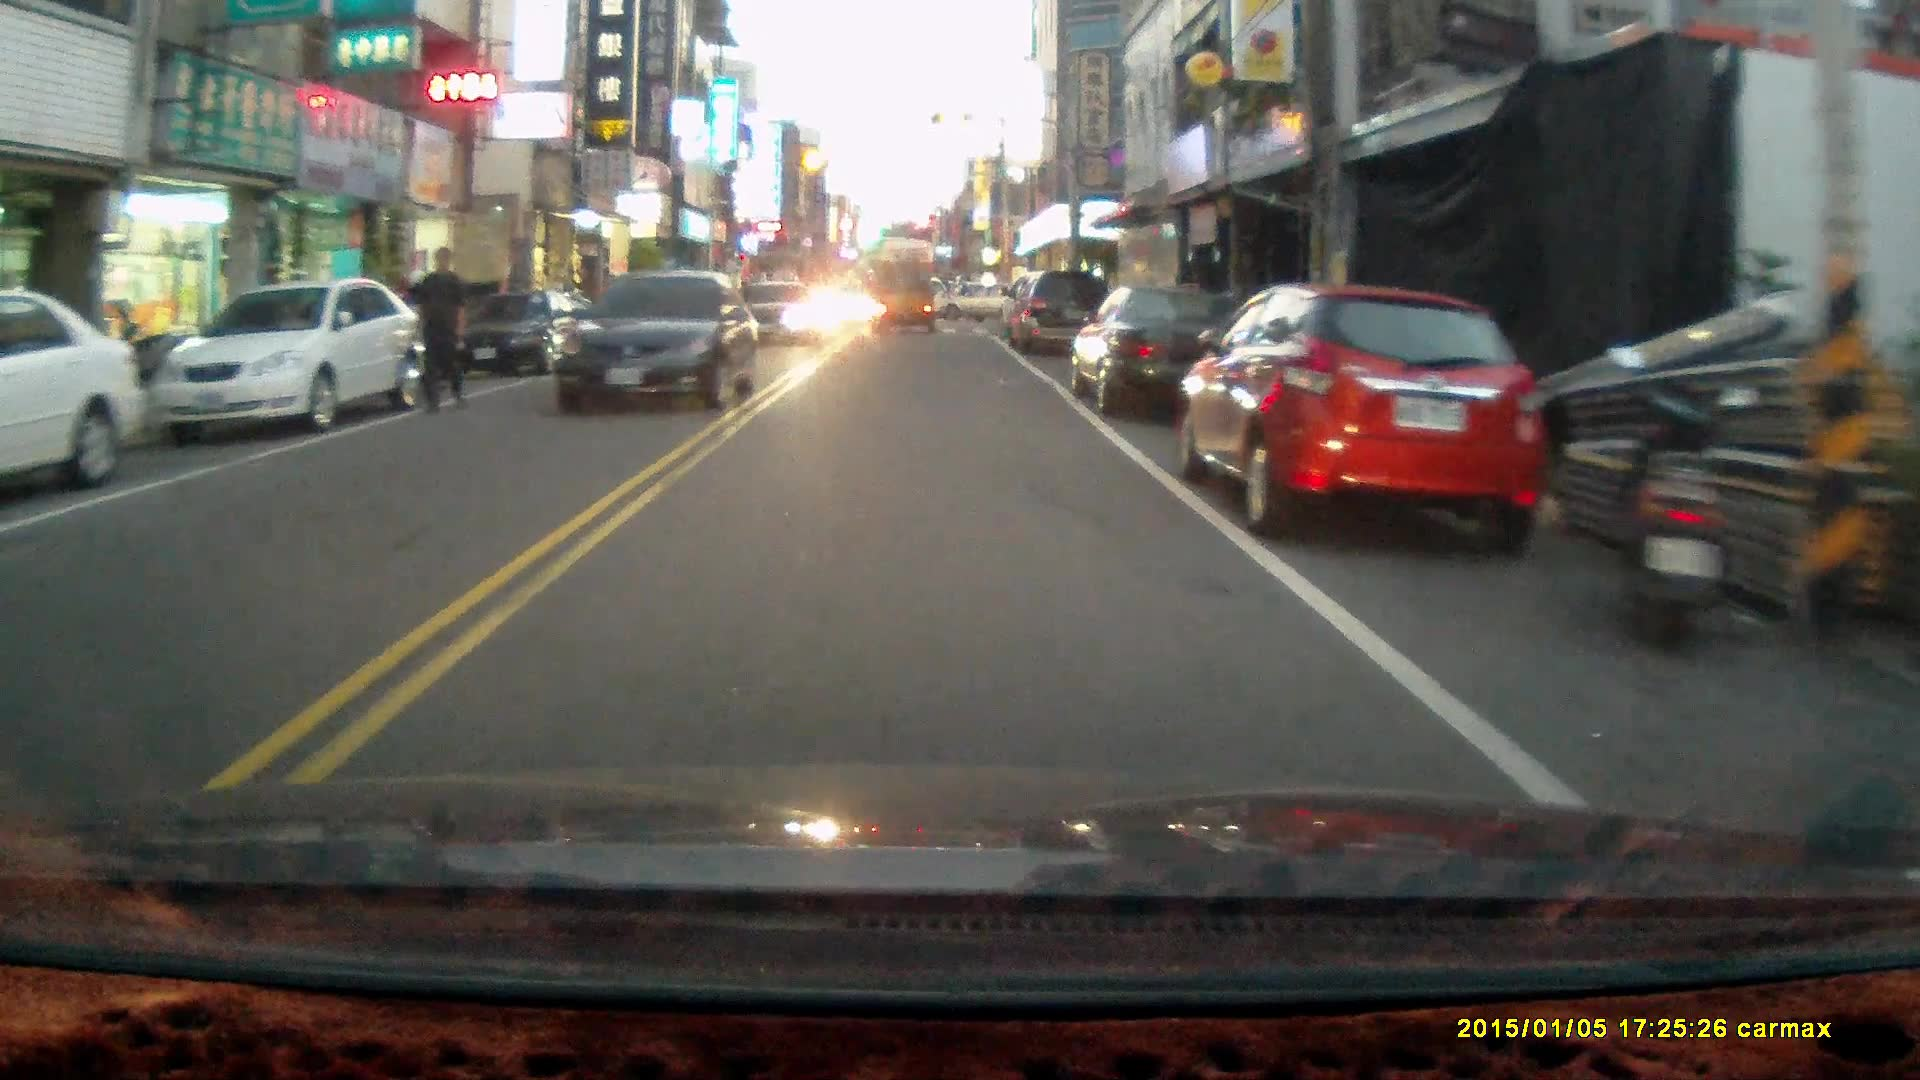pedestrian: (404, 244, 471, 417)
vehicle: (1181, 290, 1559, 554), (153, 275, 426, 434), (1, 293, 150, 507), (548, 266, 763, 412), (1069, 285, 1249, 422), (453, 289, 588, 386), (999, 268, 1118, 361), (871, 263, 938, 337)
